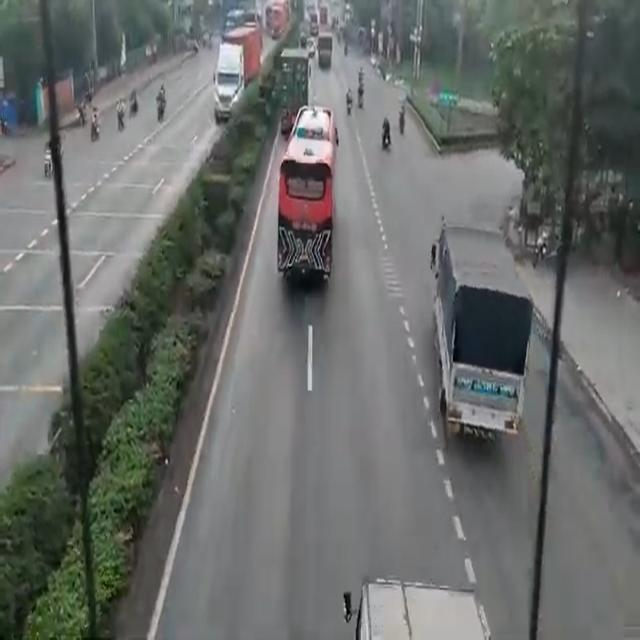bus: (278, 113, 332, 282)
truck: (428, 214, 528, 451), (212, 22, 260, 123), (278, 50, 306, 131)
